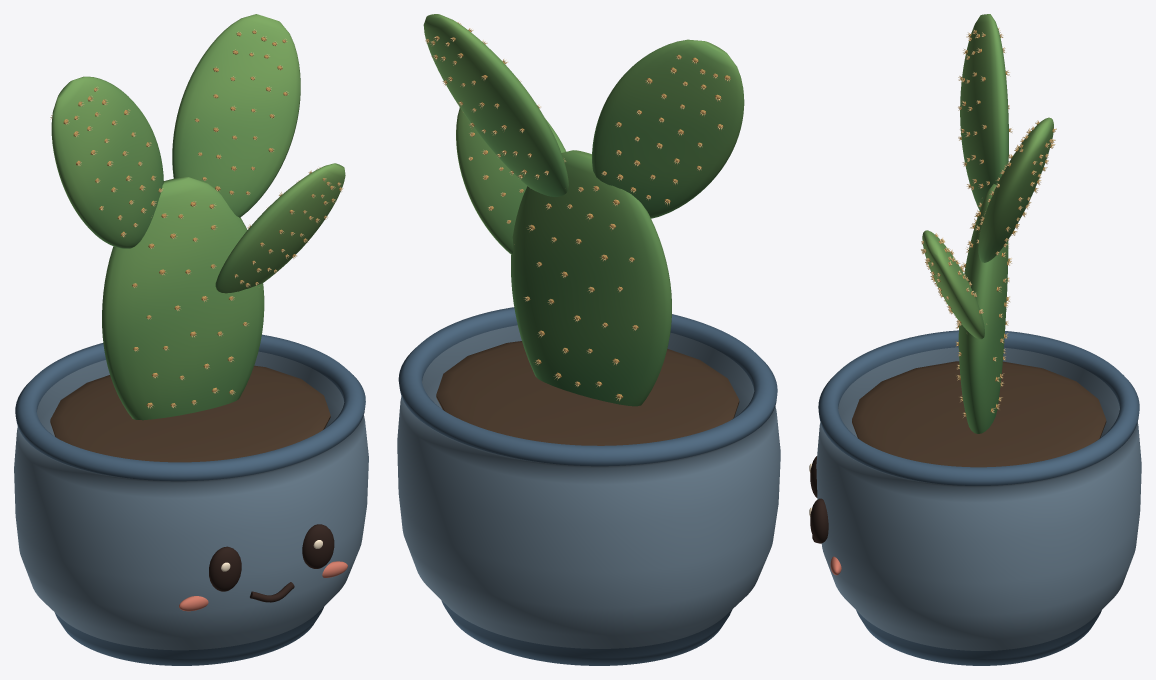
The model's file is bunny-ears-v1.glb.
The picture shows the model from 3 angles, left to right: view 1: azimuth 30°, elevation 25°; view 2: azimuth 150°, elevation 25°; view 3: azimuth 270°, elevation 25°; orthographic projection. The views are drawn at different scales.
Visible parts, largest first — view 1: Wheel-thrown ceramic, Foliage draw mesh, Soil, Eye, Eye.001; view 2: Wheel-thrown ceramic, Foliage draw mesh, Soil; view 3: Wheel-thrown ceramic, Foliage draw mesh, Soil, Eye.001.
Boxes of the visible parts, x1,y1,x2,y2 form: Wheel-thrown ceramic: (14, 334, 368, 665); Foliage draw mesh: (50, 14, 345, 420); Soil: (50, 365, 330, 462); Eye: (209, 546, 241, 591); Eye.001: (302, 524, 334, 568); Wheel-thrown ceramic: (397, 307, 780, 665); Foliage draw mesh: (423, 14, 744, 406); Soil: (436, 341, 739, 445); Wheel-thrown ceramic: (816, 330, 1141, 665); Foliage draw mesh: (921, 14, 1056, 433); Soil: (852, 361, 1106, 467); Eye.001: (810, 498, 828, 543).
Size of the model in its own units: 1.62 by 2.78 by 1.53.
